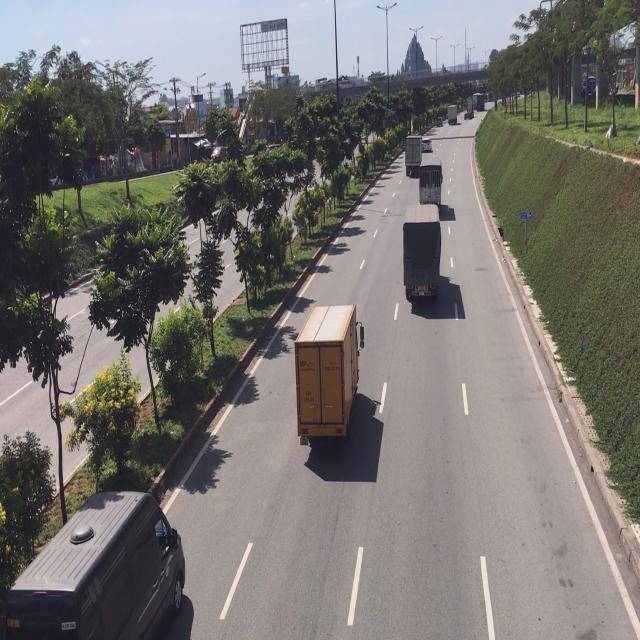bus: (10, 488, 192, 640)
truck: (293, 300, 364, 452), (402, 203, 444, 305), (419, 156, 441, 205), (405, 134, 421, 176)
